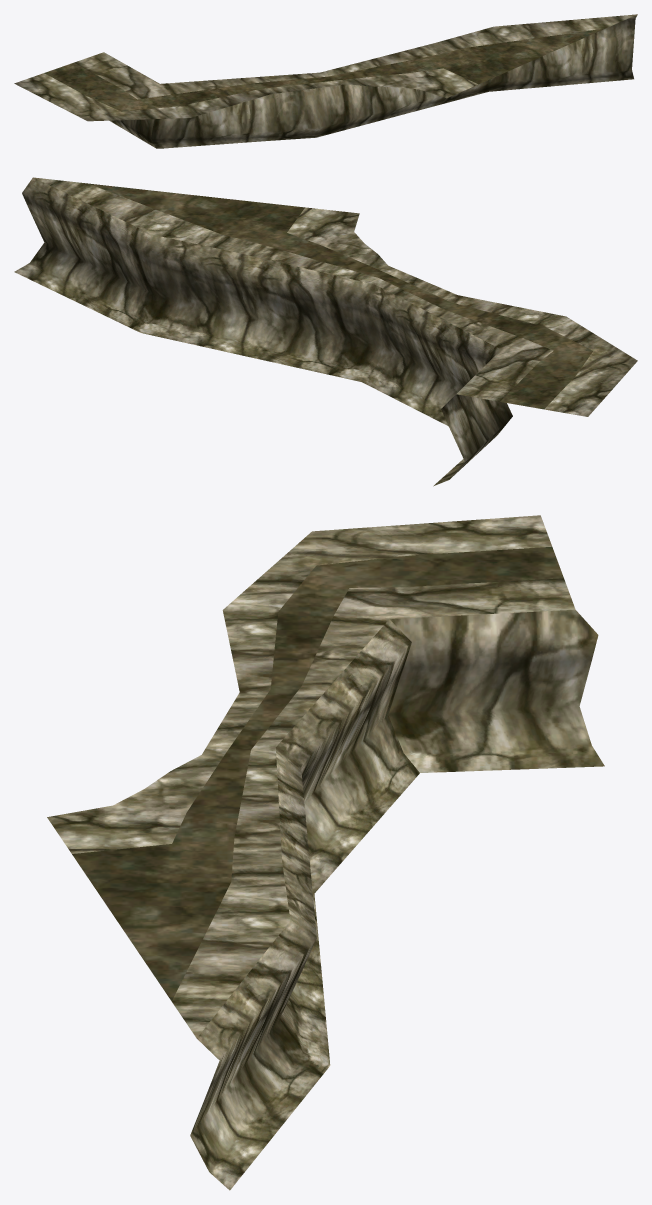
The model's file is CB_NEWPLAYSURFACE_CB_PLAYSURFACE98.fbx.
The picture shows the model from 3 angles, top to bottom: view 1: azimuth 30°, elevation 25°; view 2: azimuth 150°, elevation 25°; view 3: azimuth 270°, elevation 25°; orthographic projection. The views are drawn at different scales.
Visible parts, largest first — view 1: CB_NEWPLAYSURFACE_CB_PLAYSURFACE98; view 2: CB_NEWPLAYSURFACE_CB_PLAYSURFACE98; view 3: CB_NEWPLAYSURFACE_CB_PLAYSURFACE98.
Part boxes in pixels (left/top/right/bottom): CB_NEWPLAYSURFACE_CB_PLAYSURFACE98: left=14, top=14, right=637, bottom=148; CB_NEWPLAYSURFACE_CB_PLAYSURFACE98: left=14, top=177, right=637, bottom=486; CB_NEWPLAYSURFACE_CB_PLAYSURFACE98: left=47, top=515, right=604, bottom=1190.
Size of the model in its own units: 277867 by 35371 by 123198.
3 materials, 3 textured.
